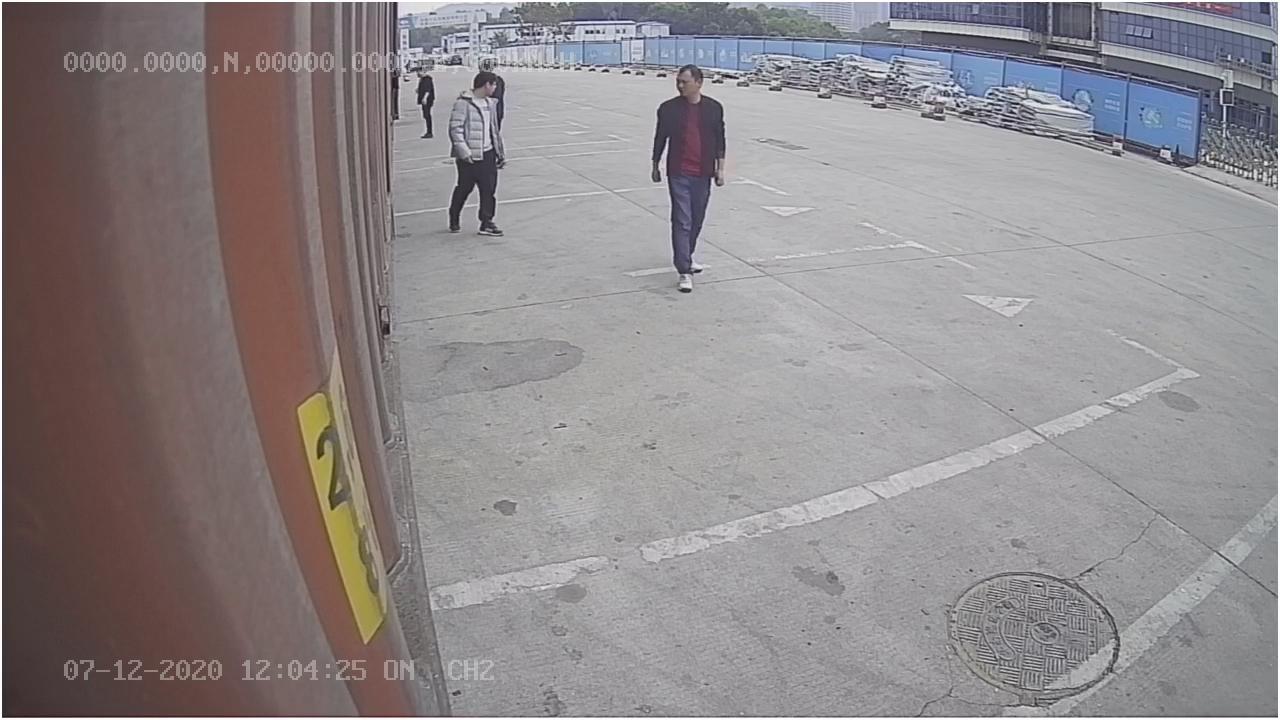person: (649, 58, 733, 296)
